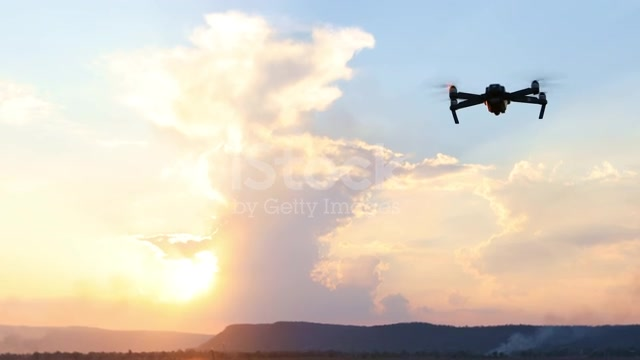drone_other: (449, 80, 546, 123)
